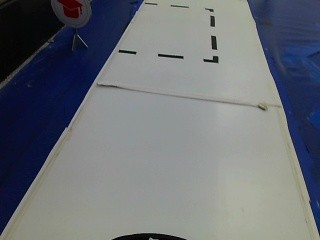school: (48, 0, 89, 29)
